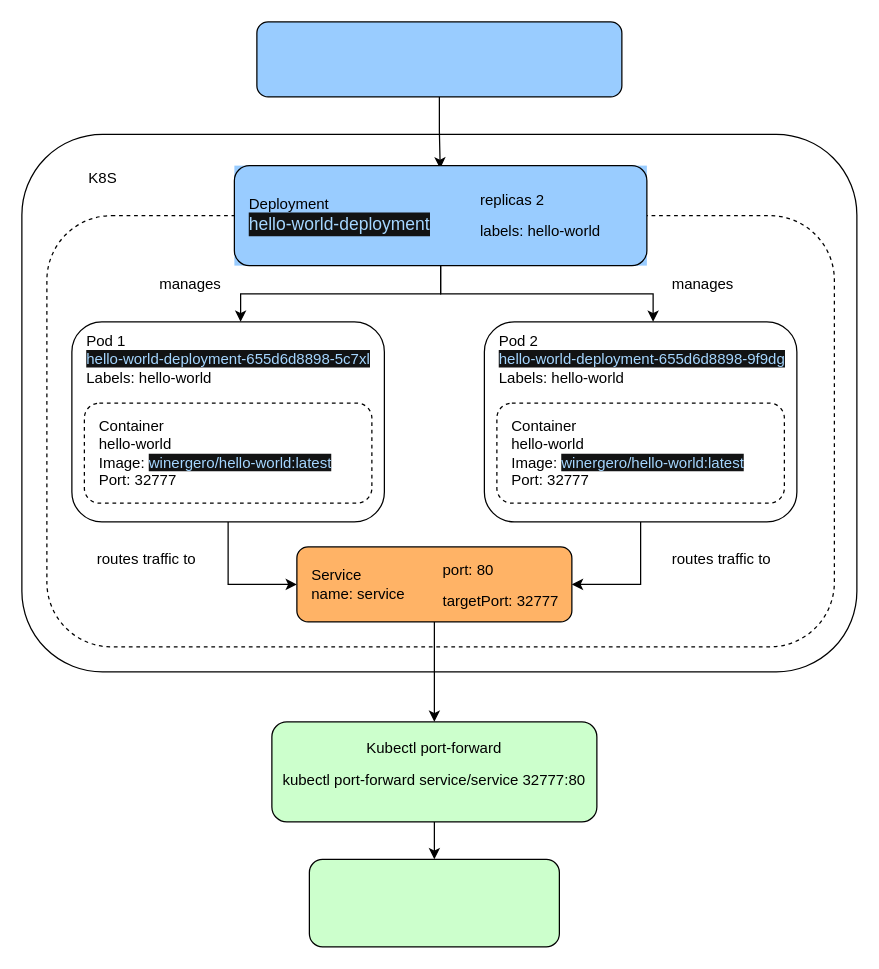
Some shapes in this 879 by 969 pixel diagram are drawn without their labels. The shapes that lost their labels are listed below. From the top down, each one's centre as x and y in pixels, then its label:
At point (439, 59): "Docker Hub winergero/hello-world:latest".
At point (433, 902): "Browser (localhost) http://127.0.0.1:32777".
